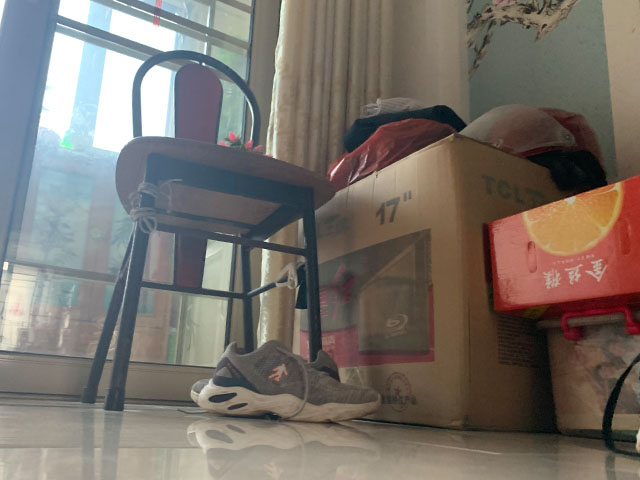curtain: (260, 1, 367, 347)
stool: (80, 48, 339, 413)
